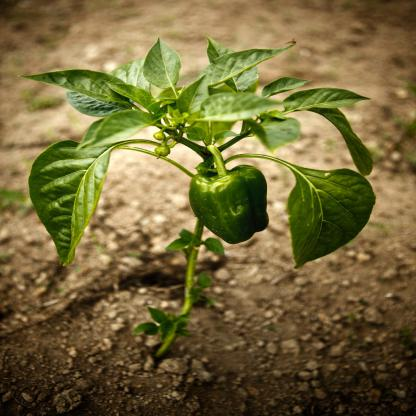Bell_pepper leaf: (282, 156, 376, 272), (27, 139, 111, 267), (20, 67, 134, 112), (196, 39, 301, 84), (194, 88, 281, 118), (285, 87, 373, 114), (138, 36, 180, 89)
